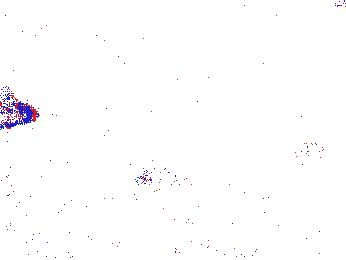X-ray fish: (130, 165, 187, 192), (1, 92, 36, 133), (281, 137, 330, 166)
